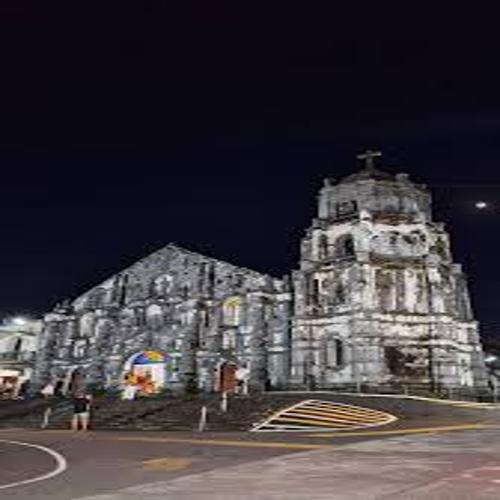Daraga Church: (39, 147, 490, 416)
